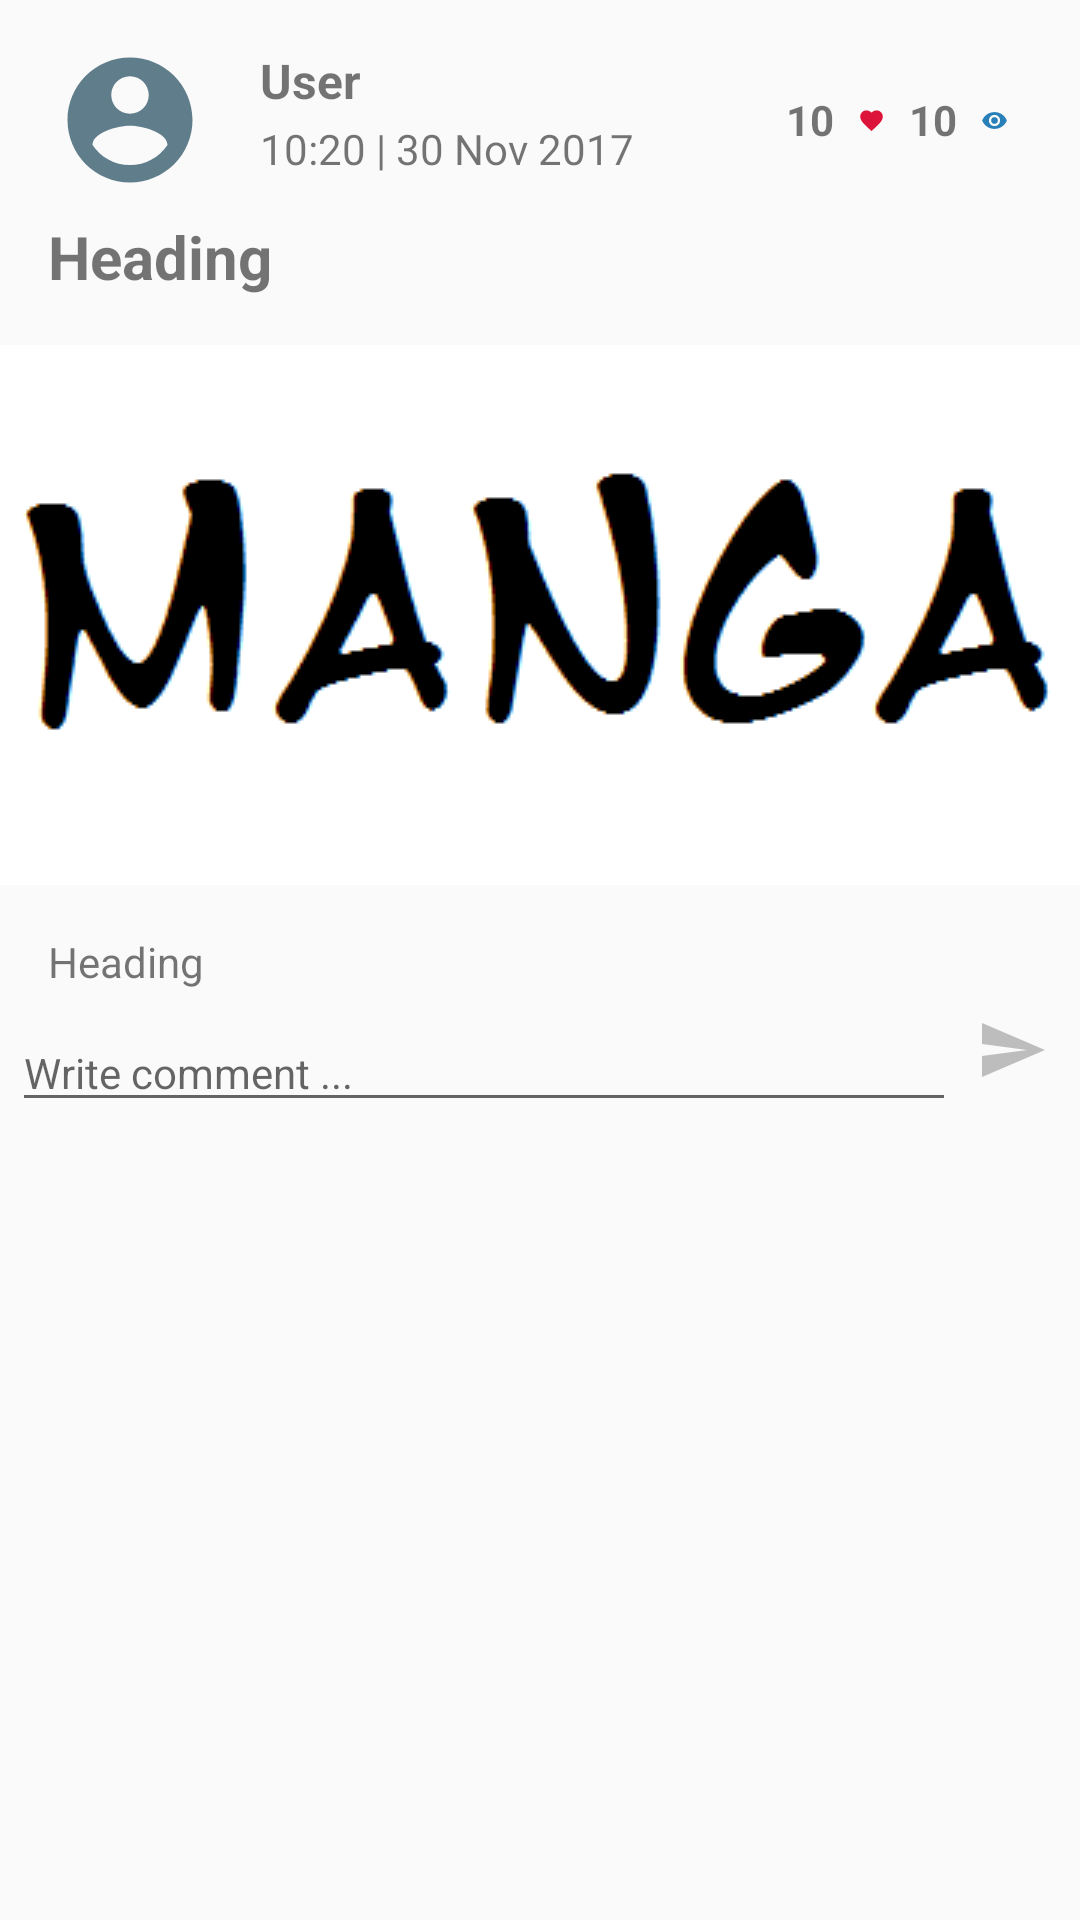

Screen size 1080px×1920px. Icon name, then its box in pixels as [x1=x1, y1=y1, x2=x2, y2=y2]:
account: [x1=67, y1=57, x2=193, y2=183]
send: [x1=982, y1=1023, x2=1044, y2=1077]
view: [x1=982, y1=112, x2=1007, y2=129]
